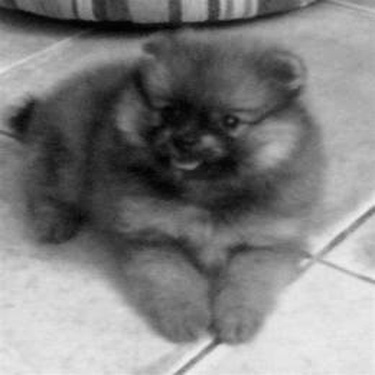dog: (7, 17, 338, 357)
